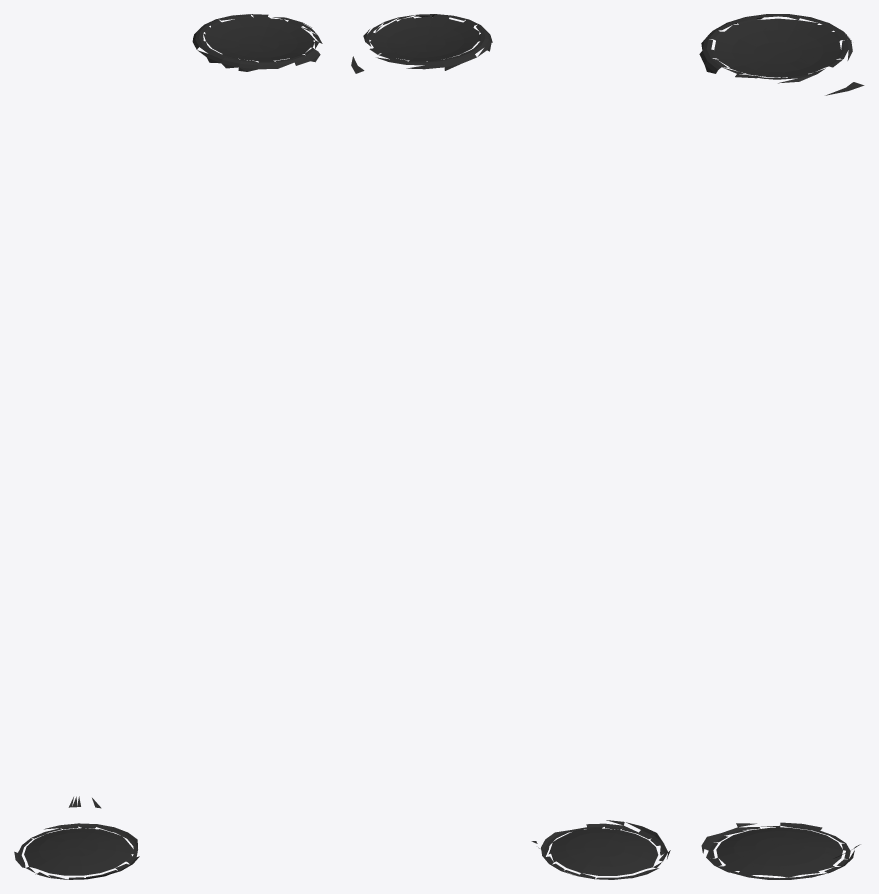
The picture shows the model from 3 angles, left to right: view 1: azimuth 30°, elevation 25°; view 2: azimuth 150°, elevation 25°; view 3: azimuth 270°, elevation 25°; orthographic projection. The views are drawn at different scales.
Size of the model in its own units: 0.0299 by 0.0762 by 0.0125.
